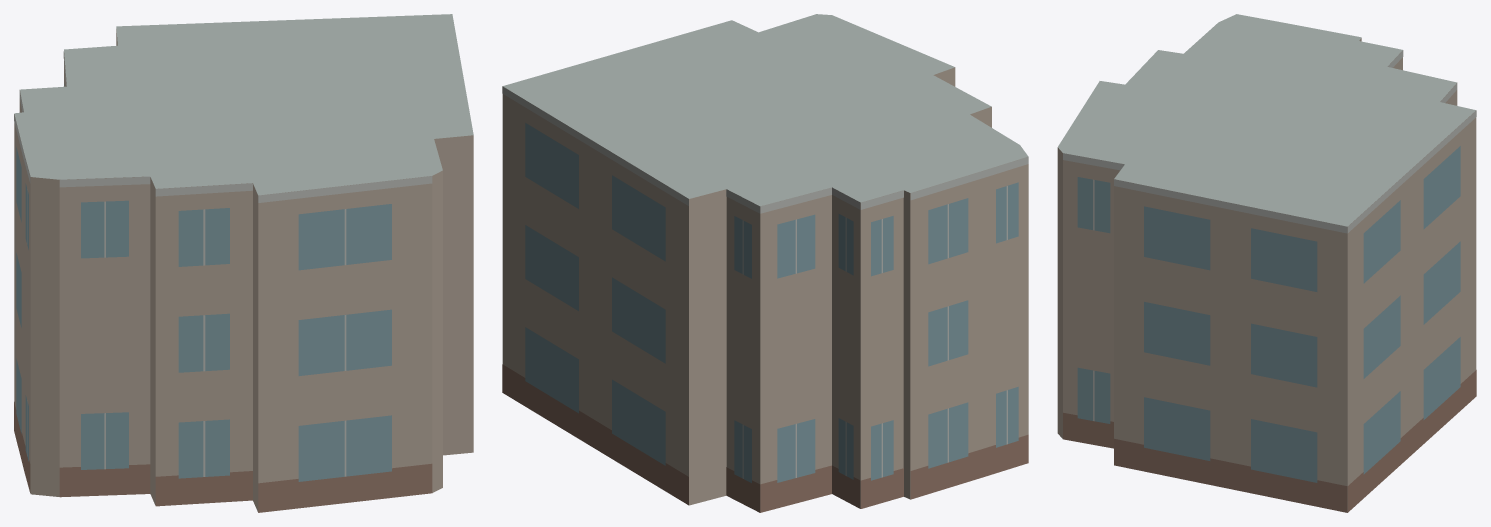
File: survey-upis-32575221.glb
The picture shows the model from 3 angles, left to right: view 1: azimuth 30°, elevation 25°; view 2: azimuth 150°, elevation 25°; view 3: azimuth 270°, elevation 25°; orthographic projection. The views are drawn at different scales.
Visible parts, largest first — view 1: survey-upis-32575221.tmp; view 2: survey-upis-32575221.tmp; view 3: survey-upis-32575221.tmp.
Boxes of the visible parts, x1=… form: survey-upis-32575221.tmp: x1=14, y1=14, x2=473, y2=512; survey-upis-32575221.tmp: x1=502, y1=14, x2=1028, y2=512; survey-upis-32575221.tmp: x1=1057, y1=14, x2=1476, y2=512.
Bounding box in the file's own units: 16.1 × 10.1 × 13.4.
